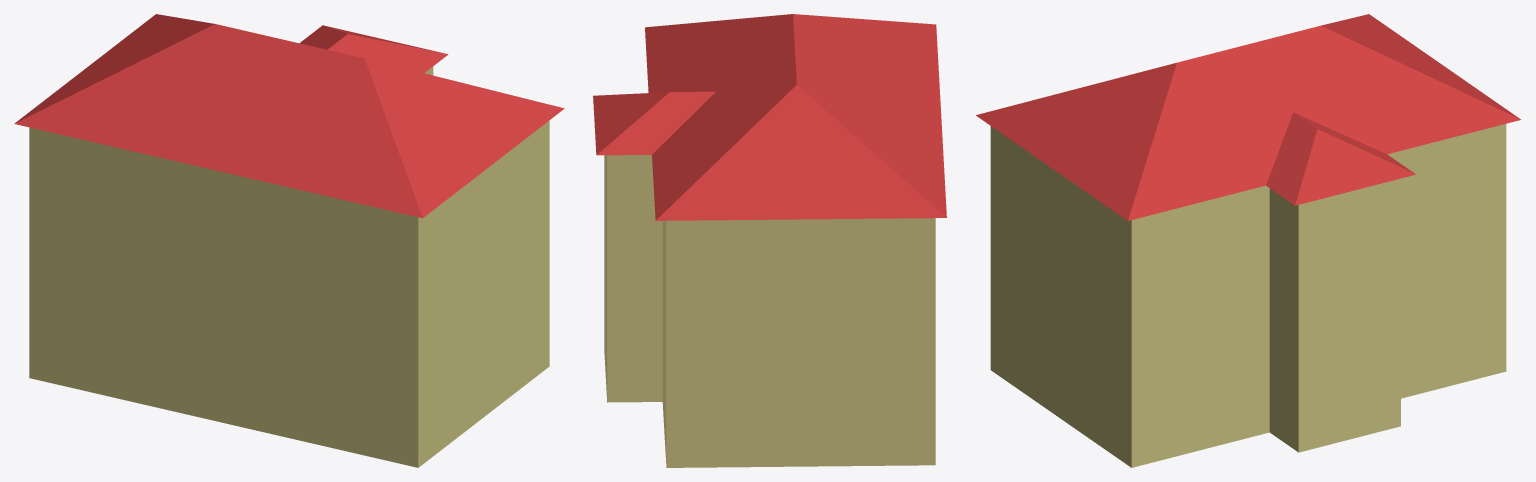
3 renders of one model, left to right at view 1: azimuth 30°, elevation 25°; view 2: azimuth 150°, elevation 25°; view 3: azimuth 270°, elevation 25°, orthographic.
Bounding box in the file's own units: 21.97 × 24.48 × 16.18.
